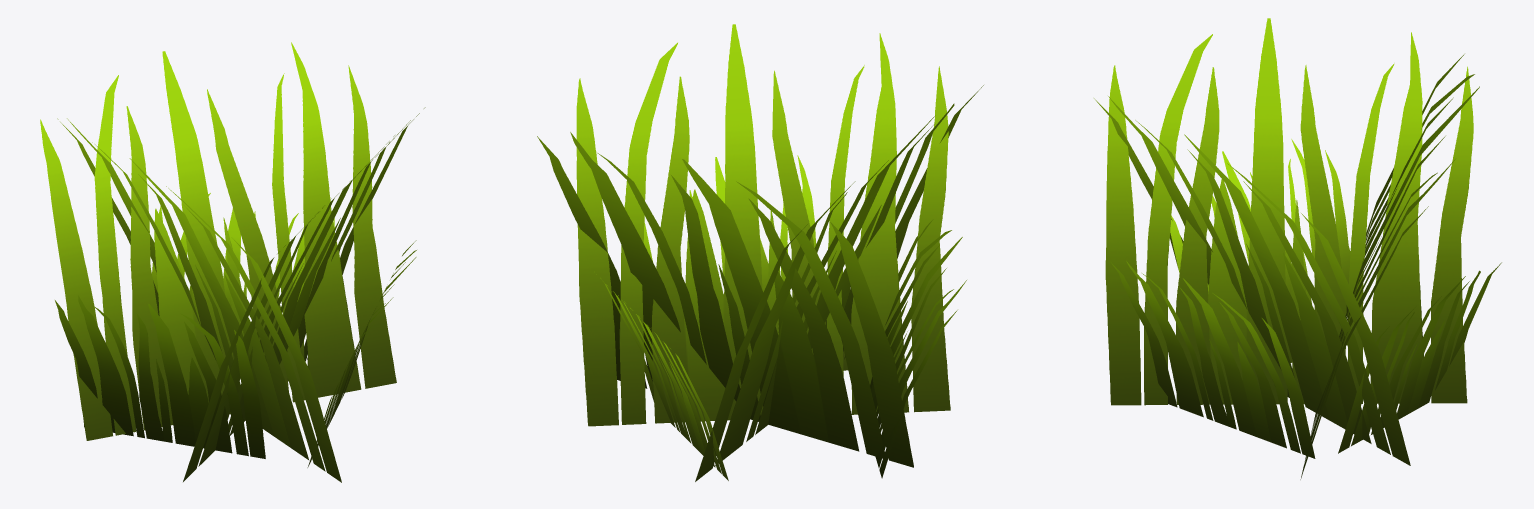
The model's file is Grass 2.FBX.
3 views of the same model, side by side, from view 1: azimuth 30°, elevation 25°; view 2: azimuth 150°, elevation 25°; view 3: azimuth 270°, elevation 25° (orthographic). The views are drawn at different scales.
Visible parts, largest first — view 1: Plane011; view 2: Plane011; view 3: Plane011.
Boxes of the visible parts, <box> form: Plane011: <box>40,42,425,482</box>; Plane011: <box>537,24,983,481</box>; Plane011: <box>1094,18,1501,479</box>.
Size of the model in its own units: 8.19 by 5.81 by 7.76.
Materials: 1 (1 with a texture image).
